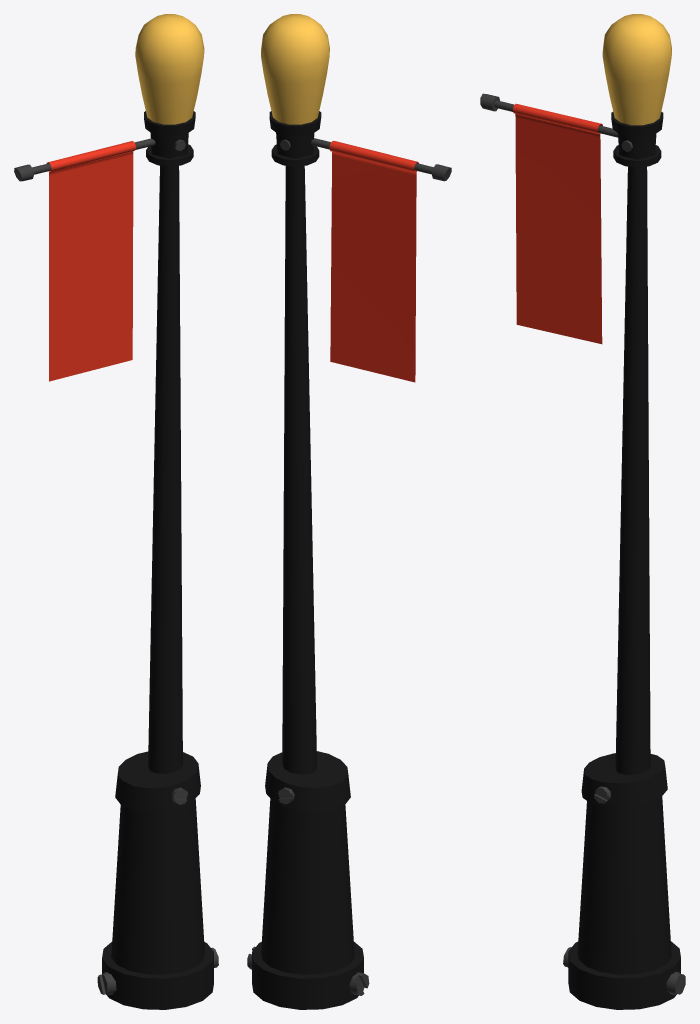
File: MET_Lampadaire_Metal_01_LOD0.fbx
The picture shows the model from 3 angles, left to right: view 1: azimuth 30°, elevation 25°; view 2: azimuth 150°, elevation 25°; view 3: azimuth 330°, elevation 25°; orthographic projection.
Visible parts, largest first — view 1: MET_Lampadaire_Metal_01_LOD0; view 2: MET_Lampadaire_Metal_01_LOD0; view 3: MET_Lampadaire_Metal_01_LOD0.
Part boxes in pixels (x1=…): MET_Lampadaire_Metal_01_LOD0: x1=14, y1=14, x2=218, y2=1009; MET_Lampadaire_Metal_01_LOD0: x1=247, y1=14, x2=451, y2=1009; MET_Lampadaire_Metal_01_LOD0: x1=480, y1=14, x2=685, y2=1009.
Size of the model in its own units: 93.26 by 437 by 46.34.
